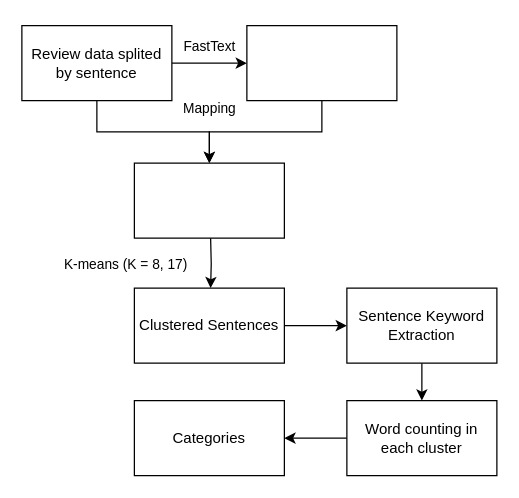
This 519x498 diagram has some shape labels left out. The shapes that lost their labels are listed below. From the top down, each one's centre as x and y in pixels, then its label:
the point at 321,62: Word Embedding Vector
the point at 208,200: Sentence Vector
